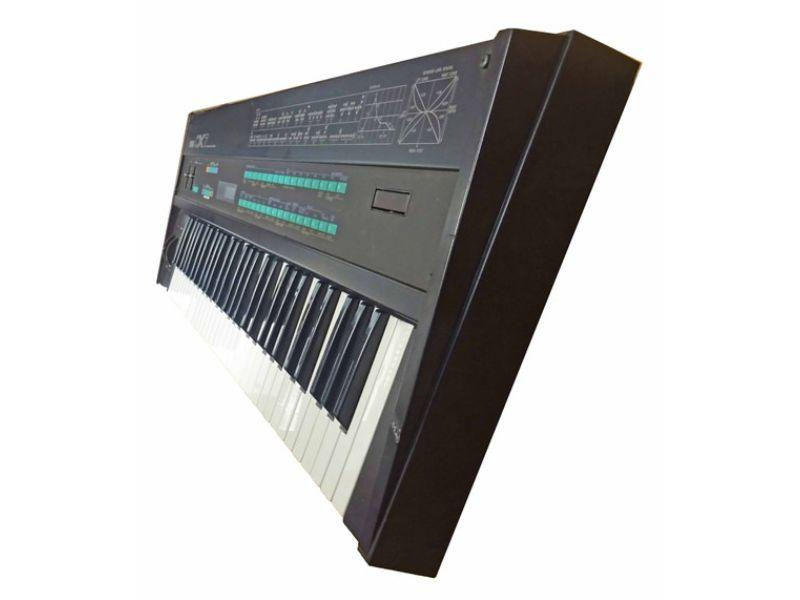synthesizer: (142, 19, 696, 582)
